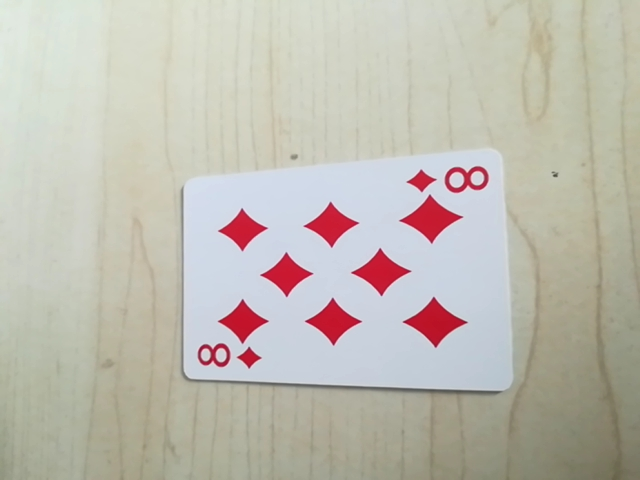fk 8: (405, 157, 495, 201), (193, 340, 264, 378)
